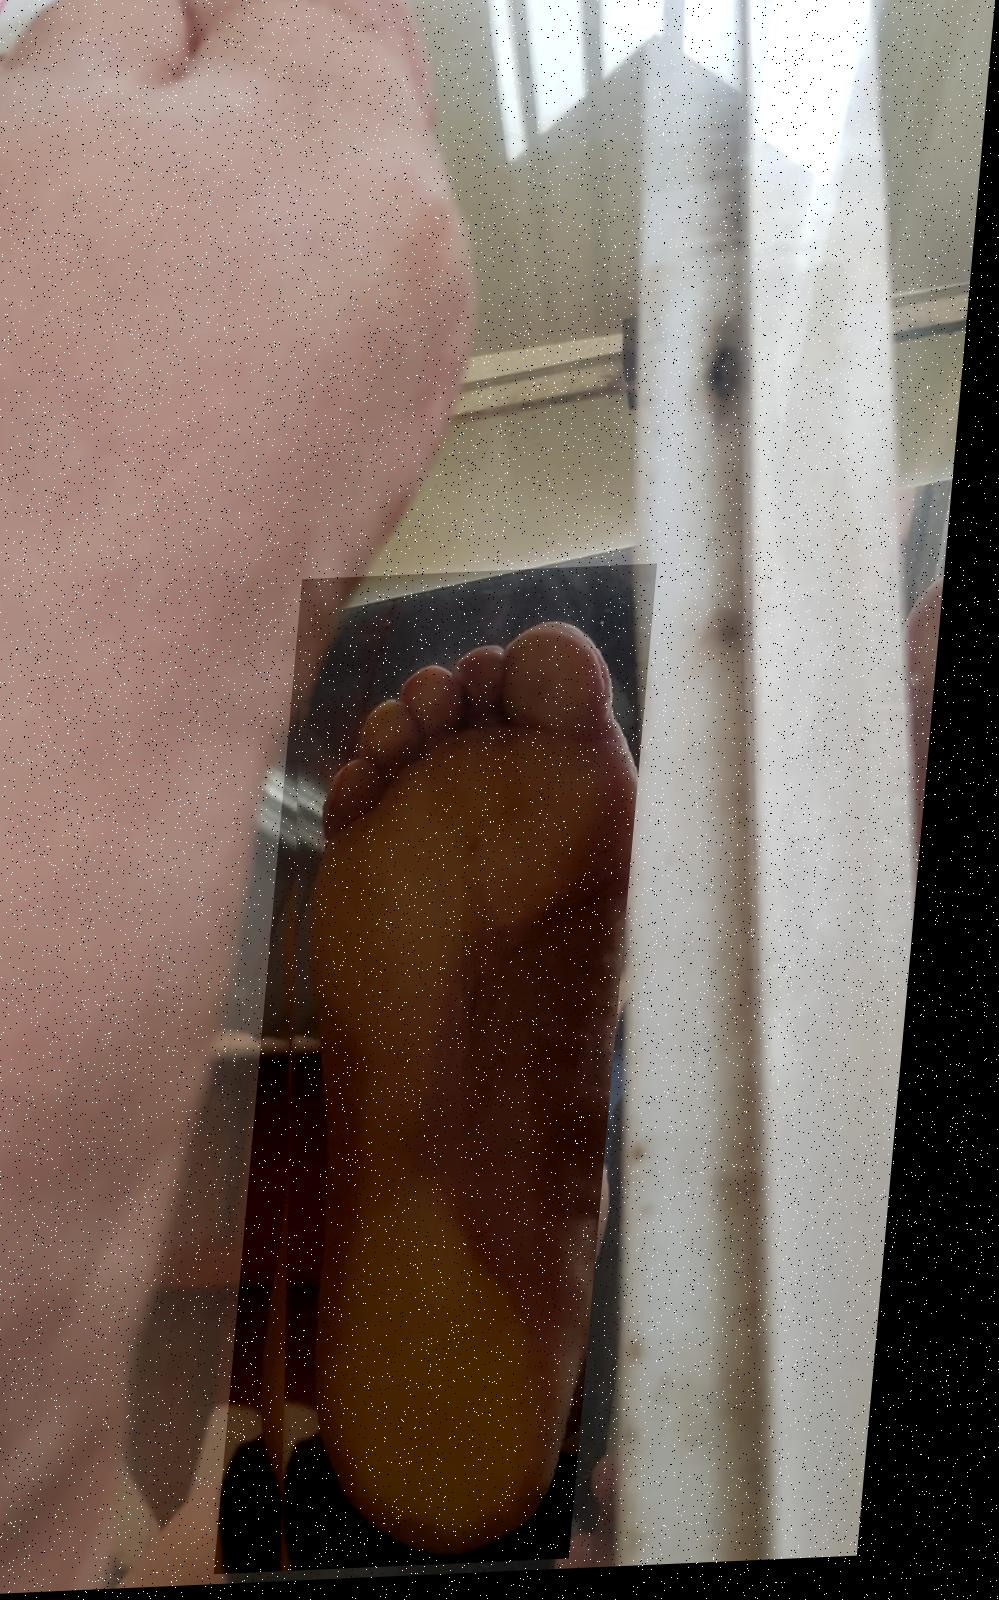Present: (244, 570, 669, 1578)
